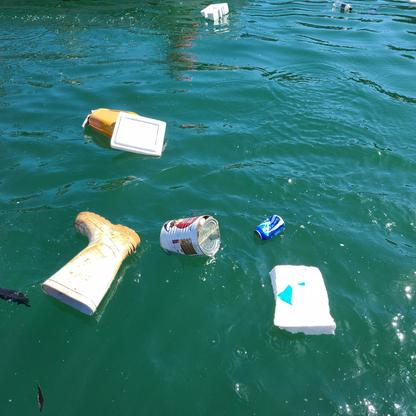can: (255, 213, 286, 238)
foam: (269, 262, 337, 338), (108, 111, 168, 155), (199, 2, 230, 19)
plastic bottle: (331, 2, 354, 11)
